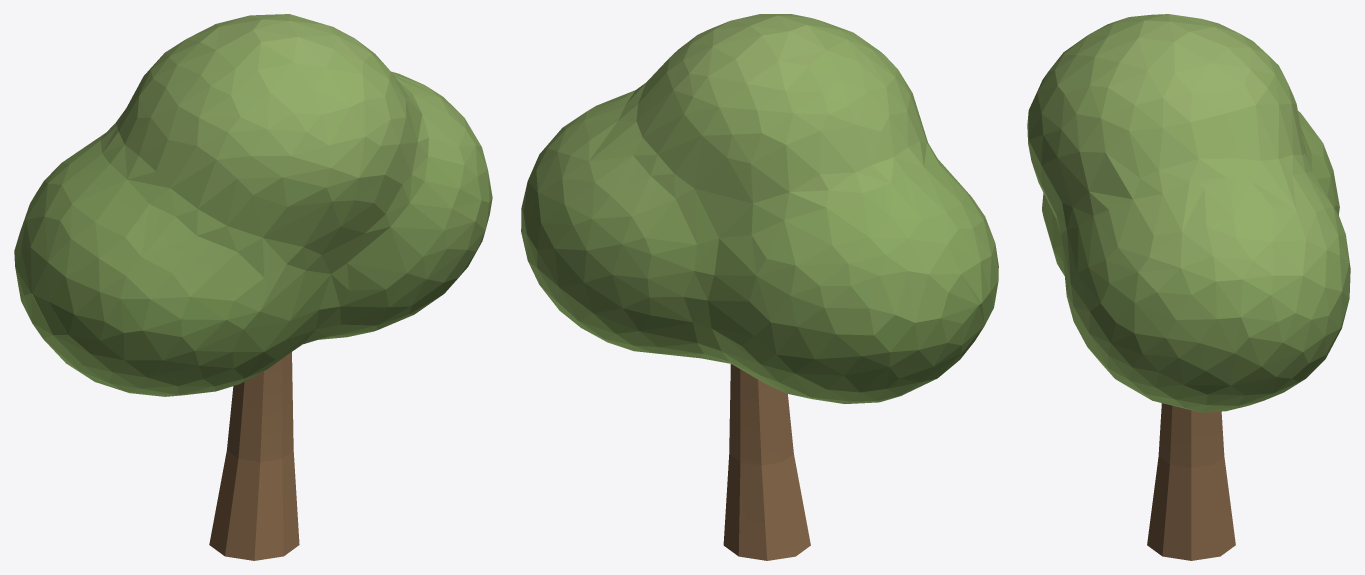
File: grove-soft-1.glb
The picture shows the model from 3 angles, left to right: view 1: azimuth 30°, elevation 25°; view 2: azimuth 150°, elevation 25°; view 3: azimuth 270°, elevation 25°; orthographic projection. The views are drawn at different scales.
Parts seen in each view (by area): view 1: Icosphere, Trunk; view 2: Icosphere, Trunk; view 3: Icosphere, Trunk.
Boxes of the visible parts, x1,y1,x2,y2 form: Icosphere: (14,14,492,396); Trunk: (209,352,299,560); Icosphere: (521,14,998,403); Trunk: (723,364,810,560); Icosphere: (1027,14,1350,412); Trunk: (1147,403,1235,560).
Bounding box in the file's own units: 1.52 × 1.7 × 0.9674.
